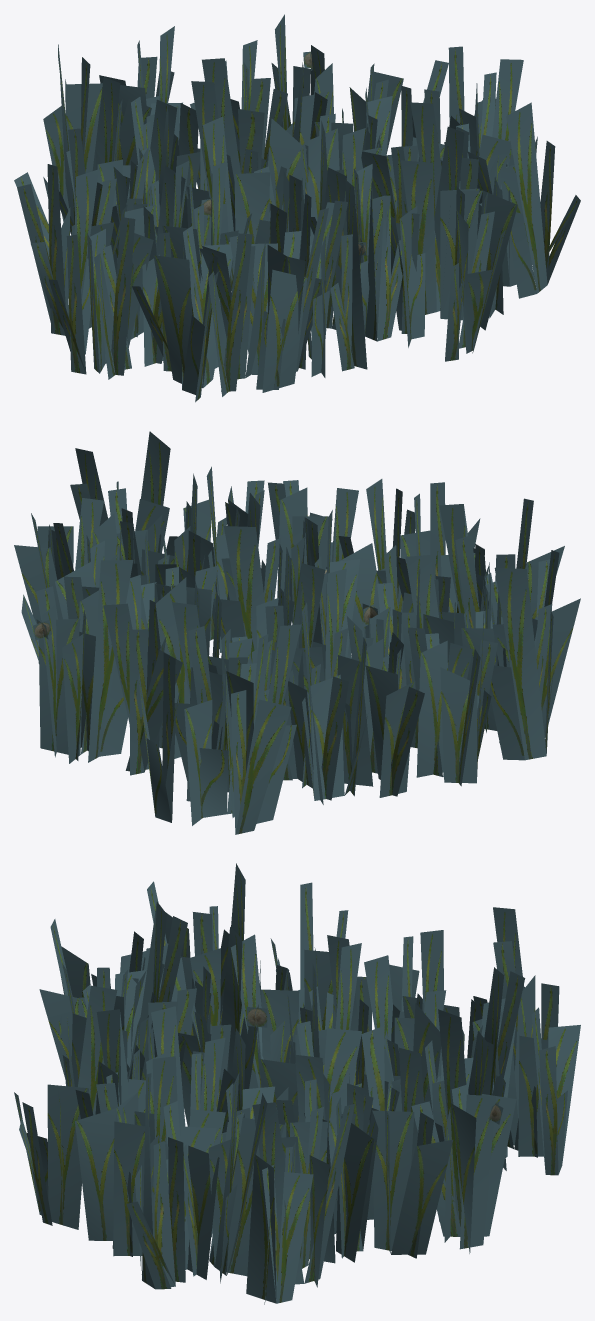
The model's file is 4002_Item_hua_6.FBX.
3 views of the same model, one above another, from view 1: azimuth 30°, elevation 25°; view 2: azimuth 150°, elevation 25°; view 3: azimuth 270°, elevation 25° (orthographic). The views are drawn at different scales.
Visible parts, largest first — view 1: 4002_Item_hua_6; view 2: 4002_Item_hua_6; view 3: 4002_Item_hua_6.
Boxes of the visible parts, left/top/right/bottom form: 4002_Item_hua_6: left=14, top=14, right=580, bottom=402; 4002_Item_hua_6: left=14, top=431, right=580, bottom=834; 4002_Item_hua_6: left=14, top=863, right=580, bottom=1304.
Bounding box in the file's own units: 295 × 113 × 272.
